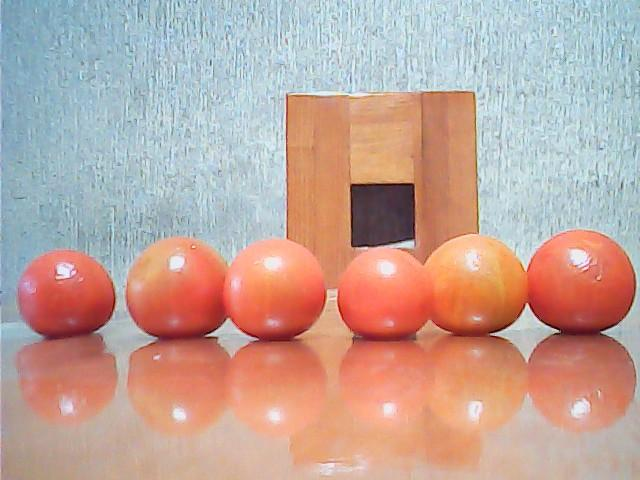maduro: (526, 230, 635, 334), (225, 236, 326, 341), (20, 247, 116, 336), (338, 246, 426, 342)
verde: (123, 237, 231, 339), (426, 235, 526, 338)
